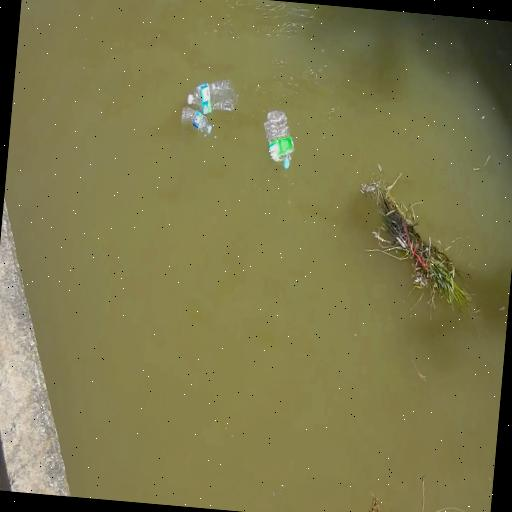plastic: (263, 111, 293, 168), (187, 80, 236, 114), (180, 107, 210, 134), (282, 157, 289, 169)
twig: (361, 165, 471, 307), (369, 495, 380, 512), (434, 507, 463, 512), (421, 477, 425, 512)
